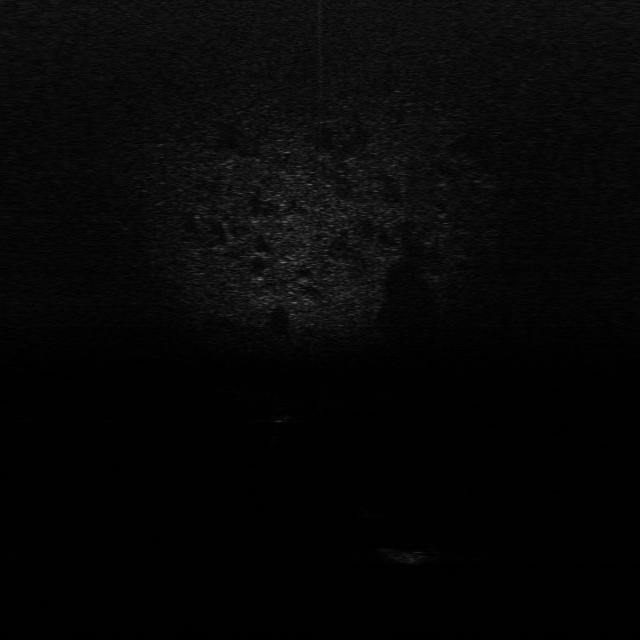ball: (269, 406, 293, 424)
metal bucket: (376, 539, 442, 568)
